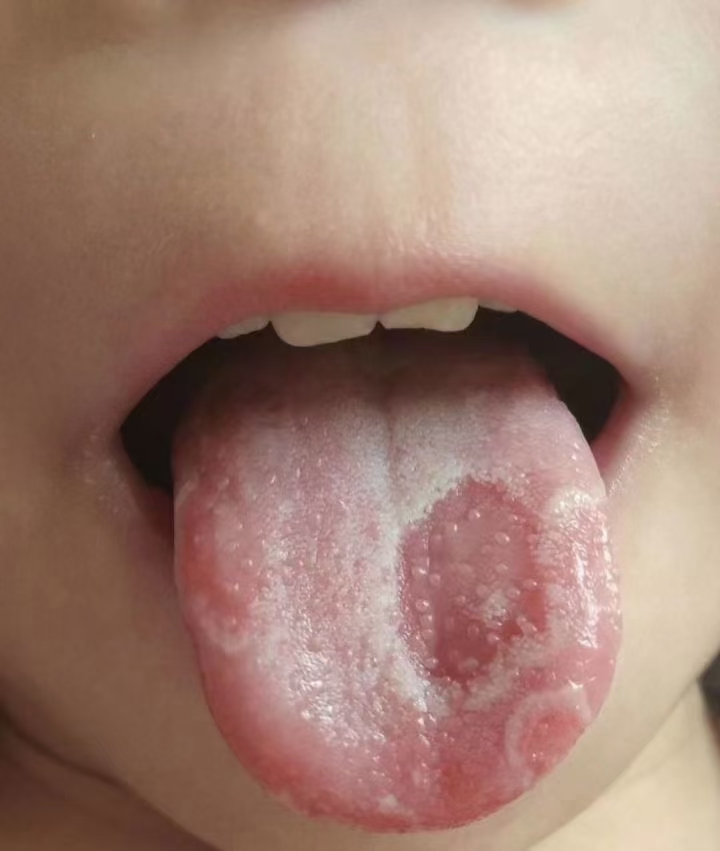baitaishe: (175, 347, 618, 833)
botaishe: (371, 462, 559, 711), (492, 676, 597, 785)
huataishe: (413, 504, 537, 647)
